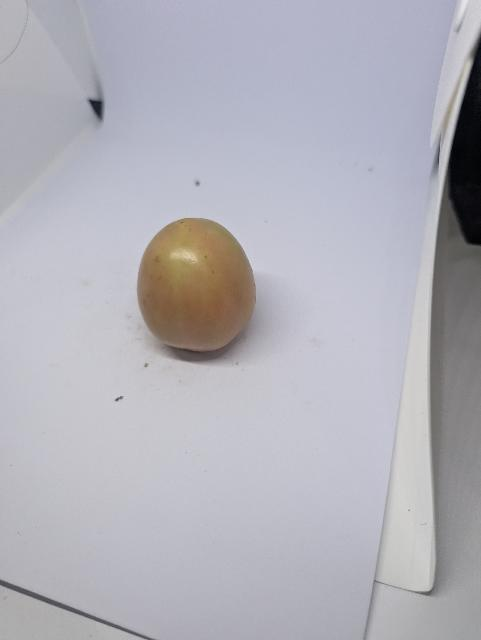breaker: (138, 218, 256, 351)
turning: (138, 218, 256, 351)
